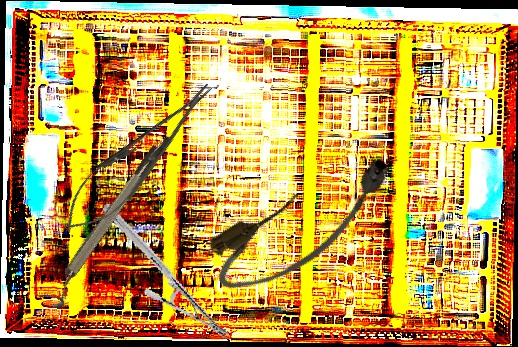Cannula: (198, 144, 412, 306)
Fixation Ring: (38, 142, 172, 312)
Needle Holder: (50, 70, 227, 247), (76, 201, 256, 342)
